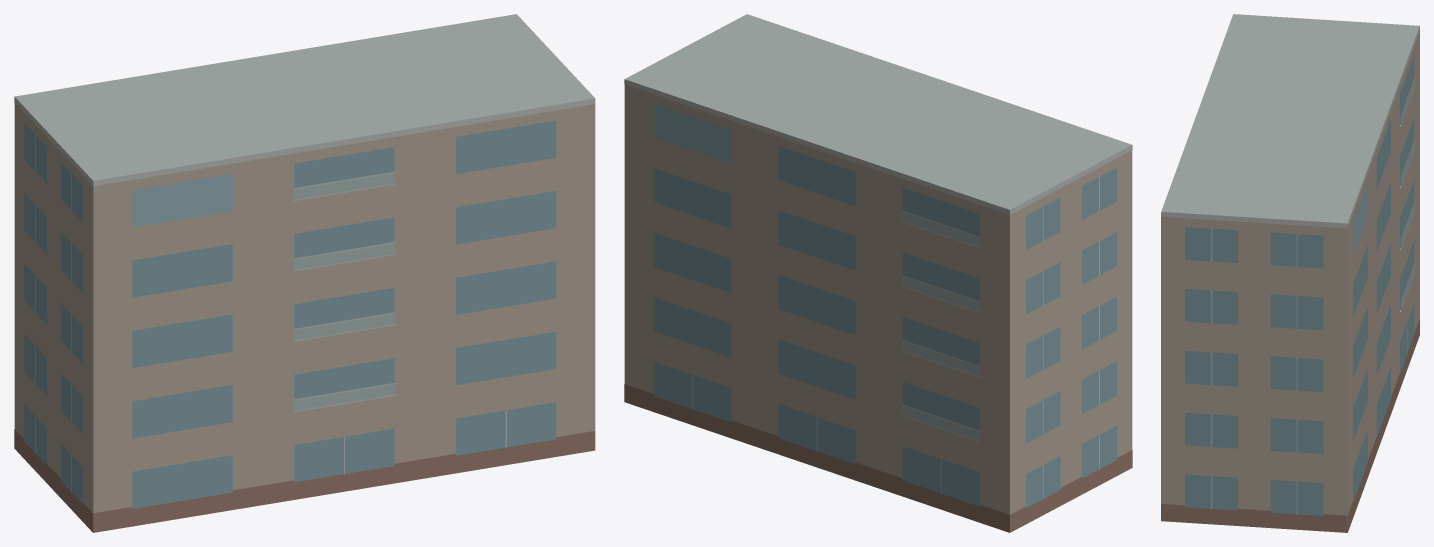
The model's file is survey-upis-32523154.glb.
3 renders of one model, left to right at view 1: azimuth 30°, elevation 25°; view 2: azimuth 150°, elevation 25°; view 3: azimuth 270°, elevation 25°, orthographic. The views are drawn at different scales.
Visible parts, largest first — view 1: survey-upis-32523154.tmp; view 2: survey-upis-32523154.tmp; view 3: survey-upis-32523154.tmp.
Part boxes in pixels (box(x1,y1,x2,y2)): survey-upis-32523154.tmp: box(14, 14, 595, 532); survey-upis-32523154.tmp: box(624, 14, 1132, 532); survey-upis-32523154.tmp: box(1161, 14, 1419, 532).
Bounding box in the file's own units: 22.16 × 15.25 × 11.57.
